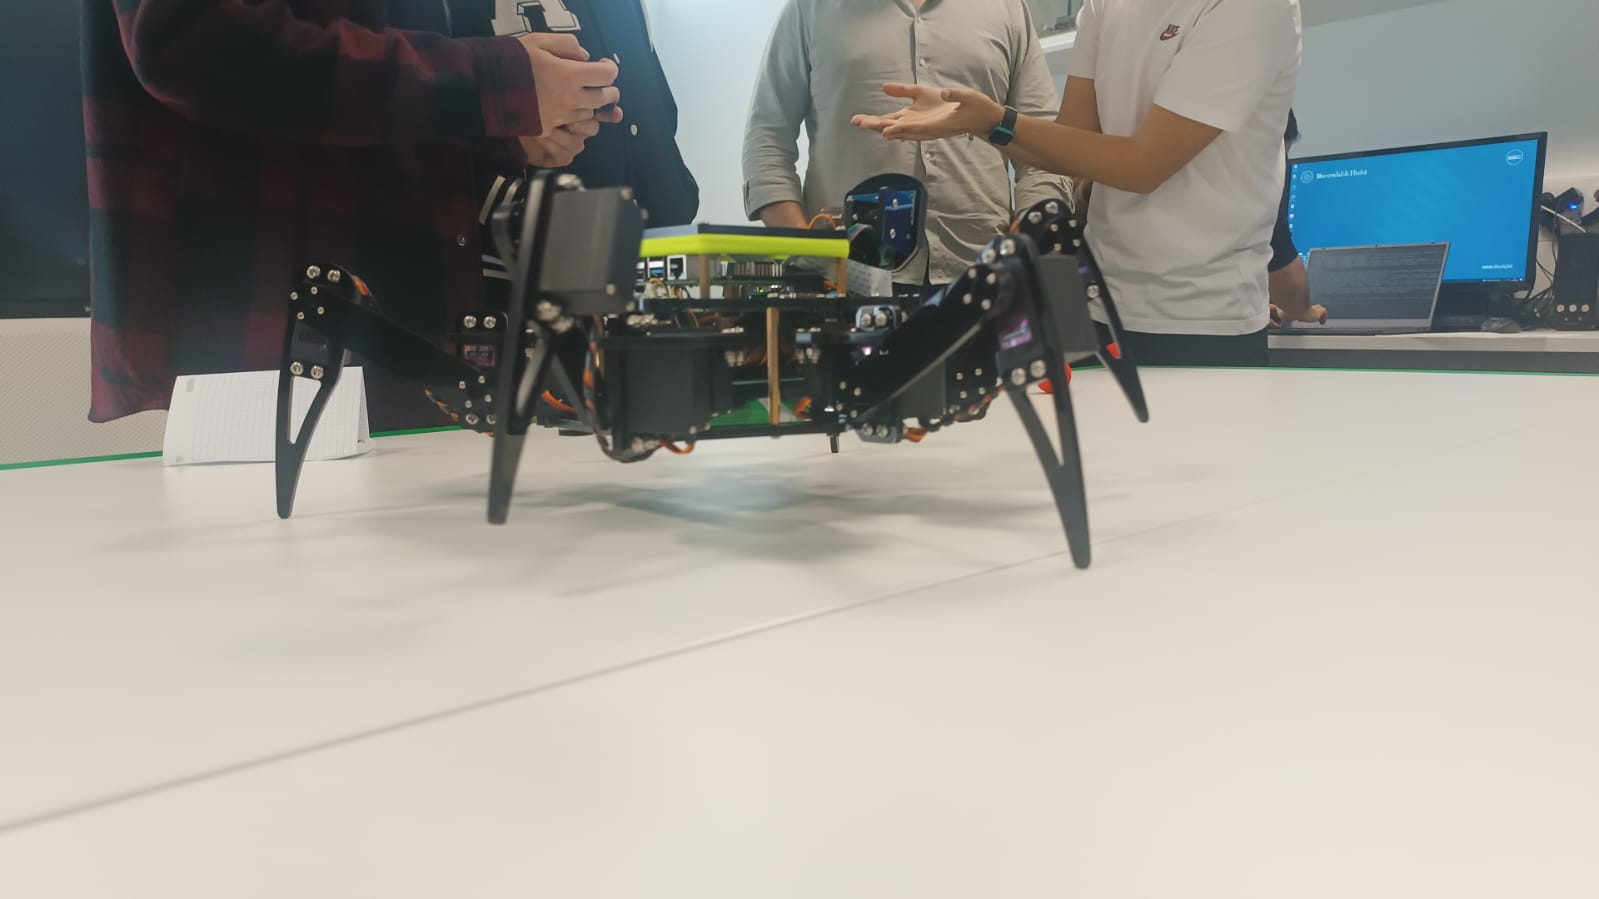hexapodo_ajeno: (275, 170, 1149, 571)
